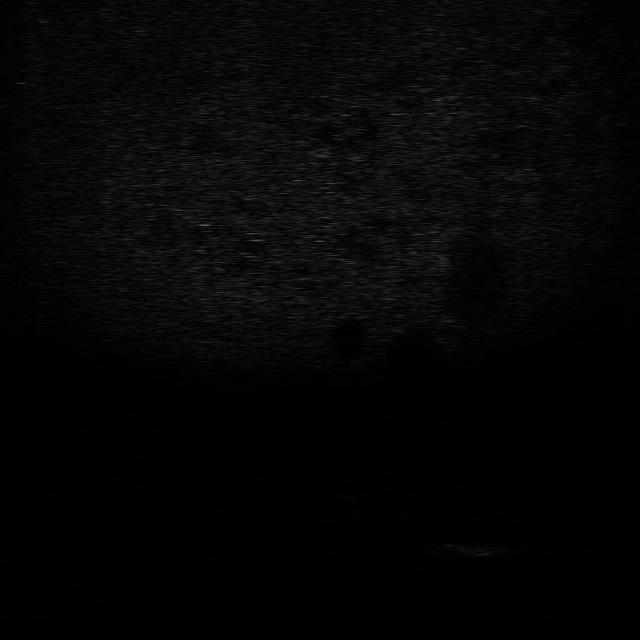ball: (327, 477, 372, 503)
metal bucket: (440, 536, 515, 562)
tyre: (392, 514, 446, 556)
